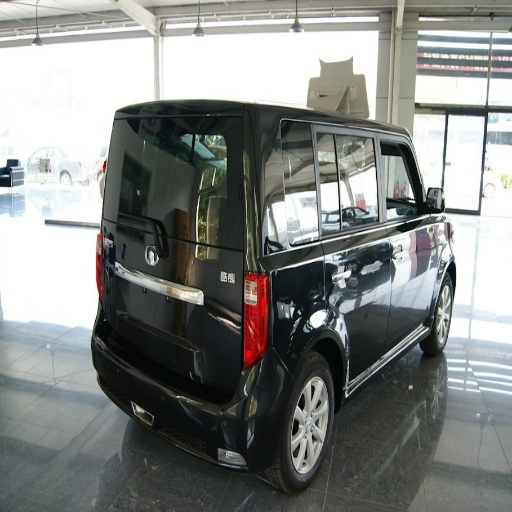back_bumper: (105, 301, 284, 458)
back_glass: (117, 119, 236, 213)
back_right_door: (315, 132, 389, 376)
trunk: (115, 215, 243, 368), (280, 262, 324, 348)
